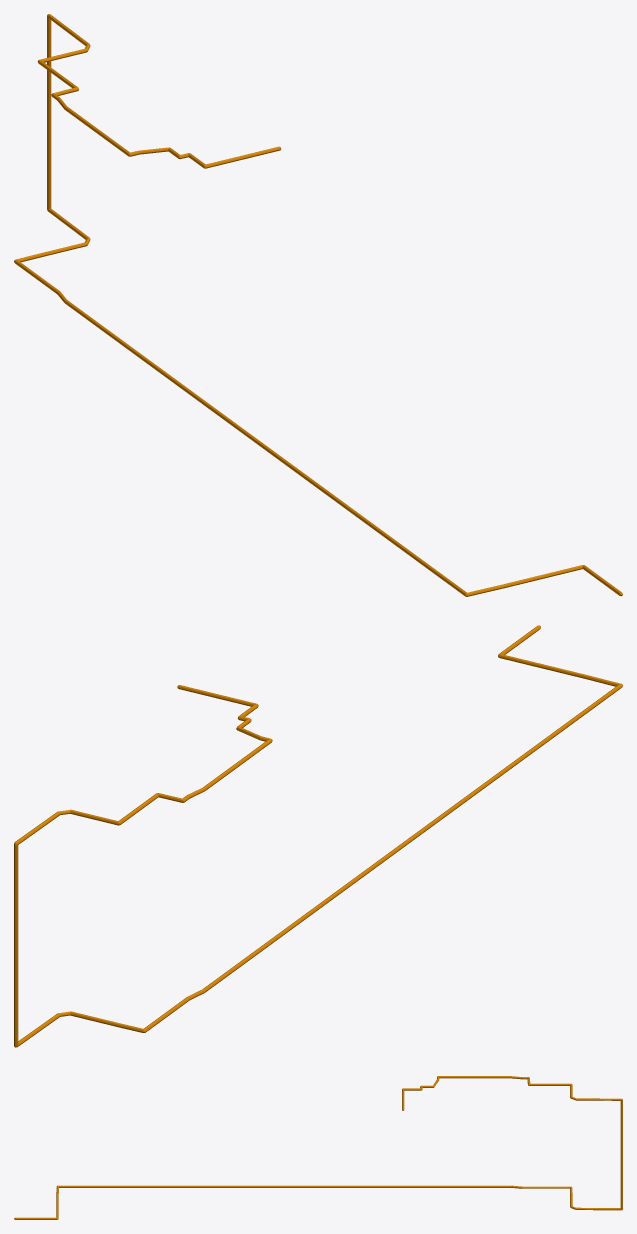
3 renders of one model, top to bottom at view 1: azimuth 30°, elevation 25°; view 2: azimuth 150°, elevation 25°; view 3: azimuth 270°, elevation 25°, orthographic. The views are drawn at different scales.
Bounding box in the file's own units: 660 × 1020 × 5044.
